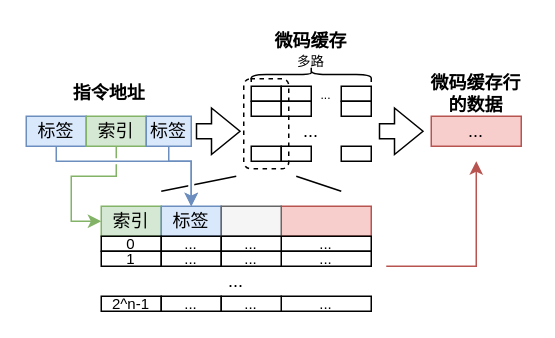
Image size: 555x338. Some labels were removed from this diagram. The centre of each missing label's shape, as x and y in pixels:
元信息: [250,220]
数据: [325,220]
